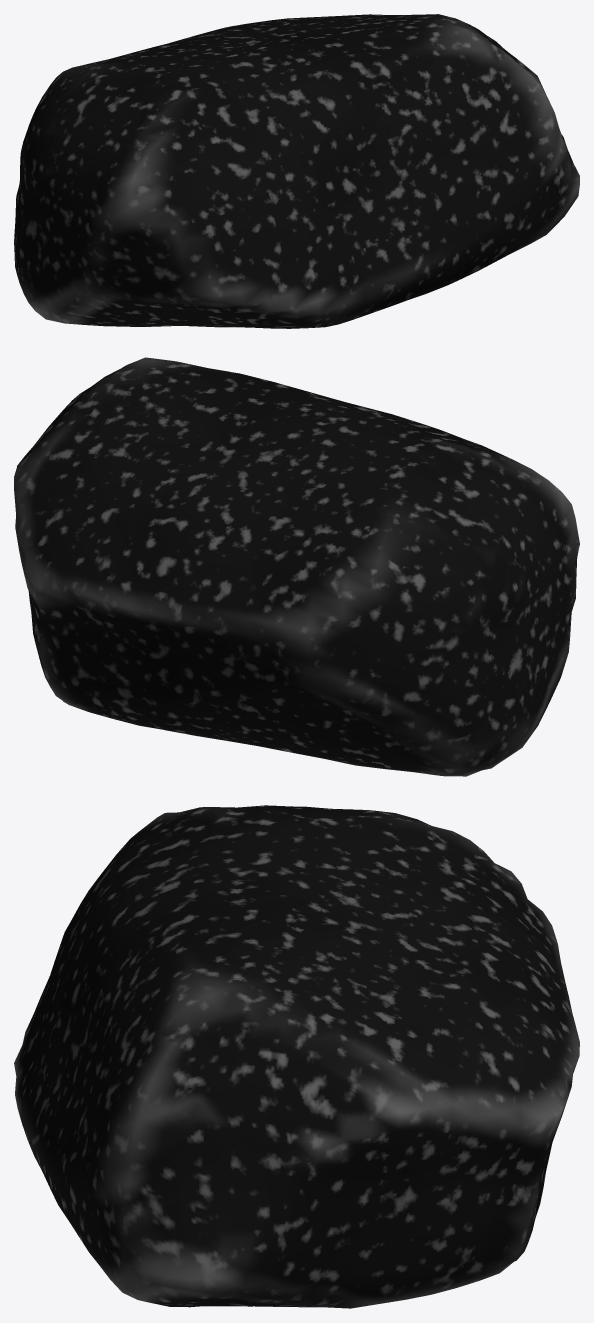
File: lunar_rock5.glb
3 renders of one model, top to bottom at view 1: azimuth 30°, elevation 25°; view 2: azimuth 150°, elevation 25°; view 3: azimuth 270°, elevation 25°, orthographic. The views are drawn at different scales.
Parts seen in each view (by area): view 1: lunar_rock_5; view 2: lunar_rock_5; view 3: lunar_rock_5.
Boxes of the visible parts, x1,y1,x2,y2 form: lunar_rock_5: (14, 14, 579, 328); lunar_rock_5: (14, 357, 579, 776); lunar_rock_5: (14, 805, 579, 1308).
Size of the model in its own units: 0.2042 by 0.0991 by 0.1488.
1 material, 1 textured.
